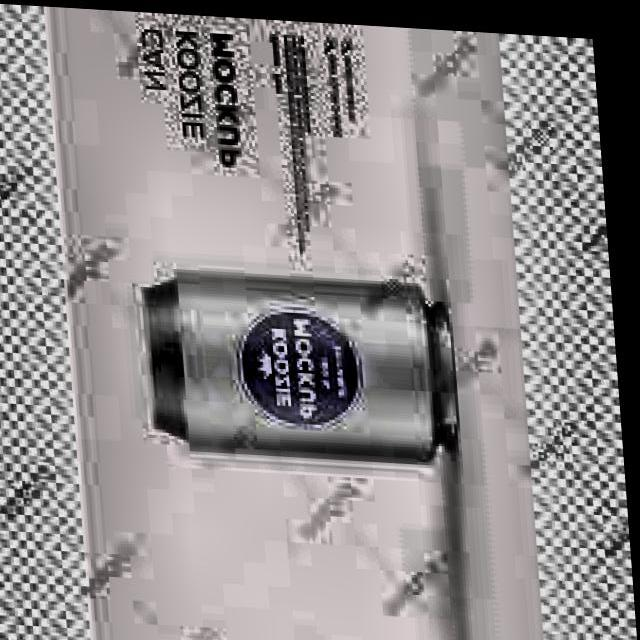Aluminum Can: (134, 260, 478, 469)
